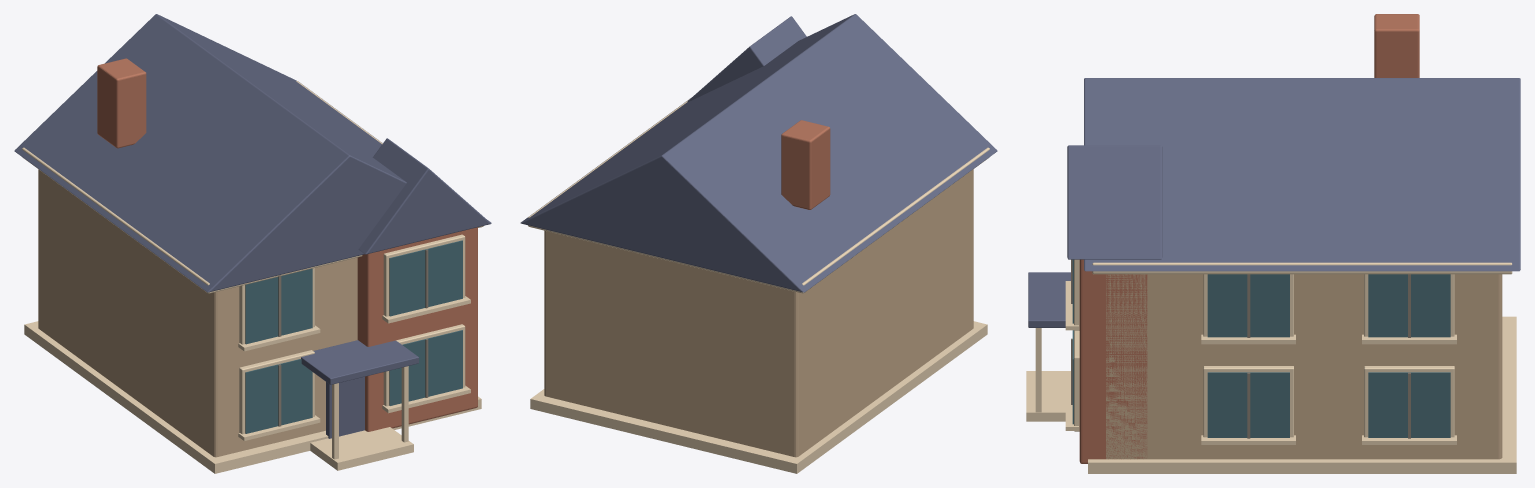
The model's file is detached-house-city-builder.glb.
3 renders of one model, left to right at view 1: azimuth 30°, elevation 25°; view 2: azimuth 150°, elevation 25°; view 3: azimuth 270°, elevation 25°, orthographic. The views are drawn at different scales.
Visible parts, largest first — view 1: detached-house-city-builder; view 2: detached-house-city-builder; view 3: detached-house-city-builder.
Boxes of the visible parts, x1=… form: detached-house-city-builder: x1=14, y1=14, x2=491, y2=473; detached-house-city-builder: x1=520, y1=14, x2=997, y2=473; detached-house-city-builder: x1=1026, y1=14, x2=1520, y2=473.
Bounding box in the file's own units: 8.96 × 8.85 × 12.
